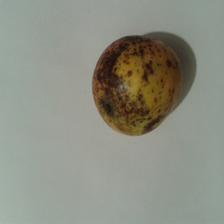Mango Semirotten: (91, 32, 183, 136)
